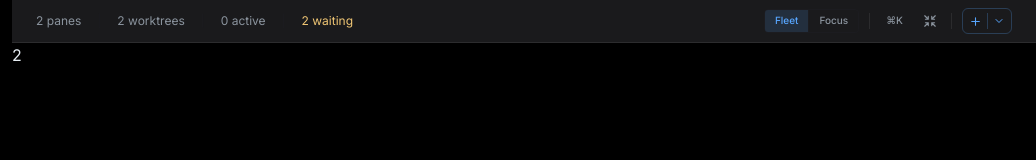
AttentionPeek › rows › renders a muted elapsed time from the session and omits it when there is none
The image size is (1036, 160).
Click the button with test id "resource-attention-stat" at point(327, 21), box left=302, top=13, right=353, bottom=29
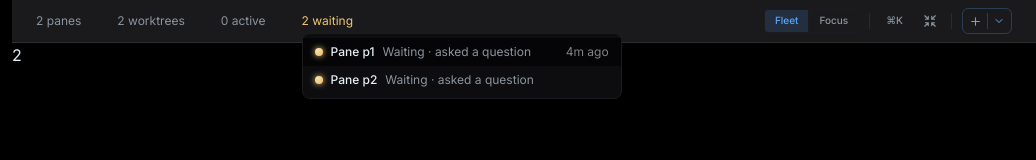
Check: the menu item with test id "attention-peek-row" shows "4m ago", box left=303, top=38, right=621, bottom=66
Check: the menu item with test id "attention-peek-row" reads "Pane p2 Waiting · asked a question", box left=303, top=66, right=621, bottom=94
